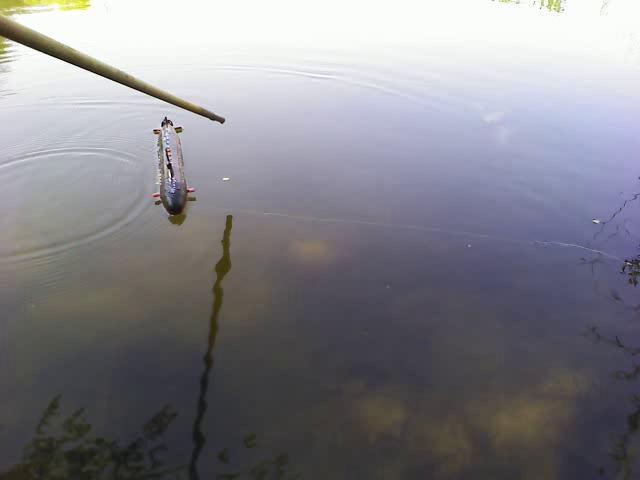submarine: (148, 114, 203, 216)
